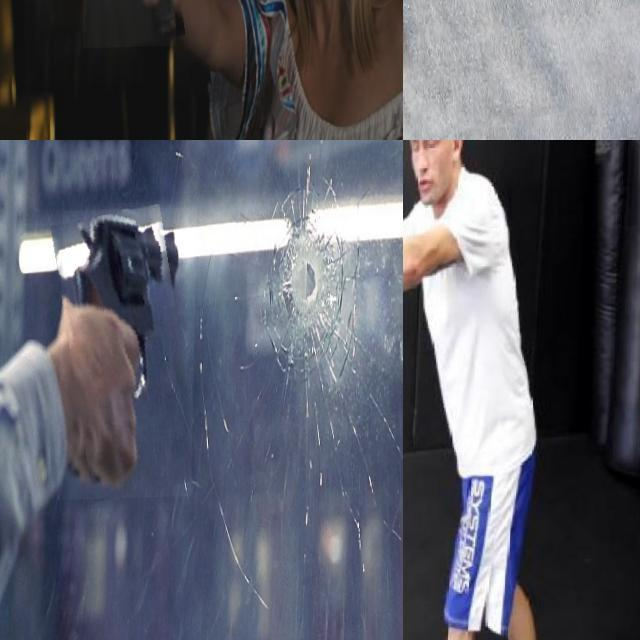-: (403, 263, 453, 368)
gun-knife-thesis - v11 Yolov5 augmented: (59, 209, 198, 501), (403, 0, 640, 140), (84, 0, 181, 111)
